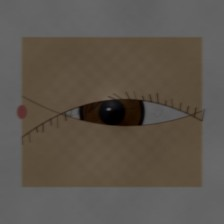pterygium_lesion: (21, 88, 81, 136)
